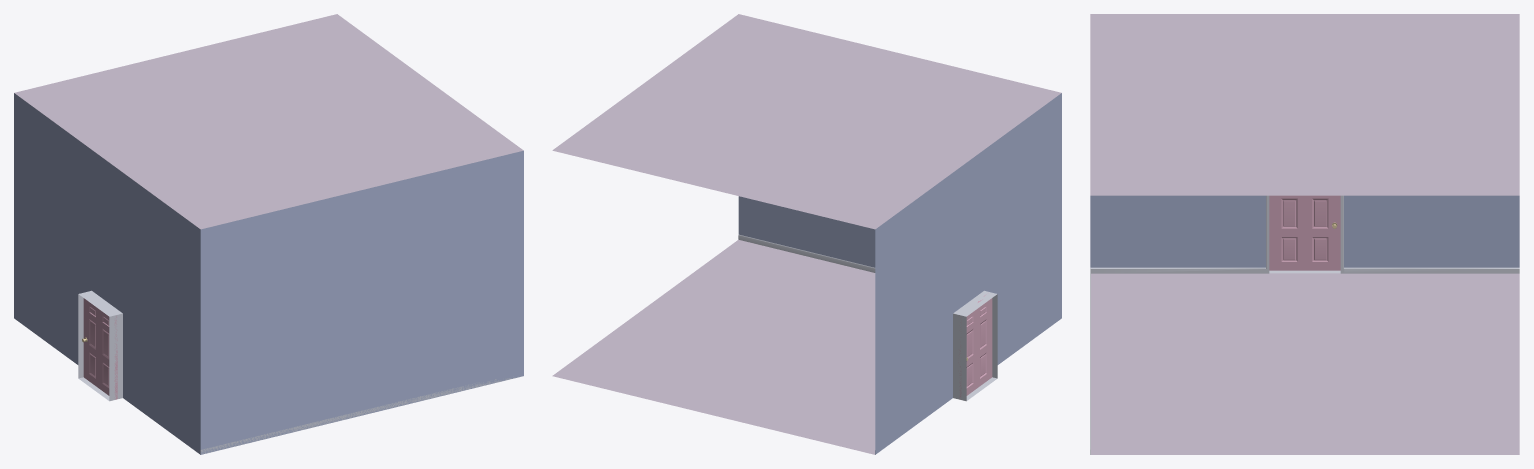
Rendered from doorsRoom.fbx.
The picture shows the model from 3 angles, left to right: view 1: azimuth 30°, elevation 25°; view 2: azimuth 150°, elevation 25°; view 3: azimuth 270°, elevation 25°; orthographic projection. The views are drawn at different scales.
Parts seen in each view (by area): view 1: polySurface4, pPlane12, polySurface1, polySurface6, pCube5, pCube11; view 2: pPlane12, pPlane1, polySurface1, polySurface4, pCube5, polySurface6, pCube11; view 3: pPlane12, pPlane1, polySurface1, polySurface6, pCube10.
Part boxes in pixels (x1=…): polySurface4: x1=200, y1=150, x2=523, y2=454; pPlane12: x1=14, y1=14, x2=523, y2=229; polySurface1: x1=14, y1=93, x2=200, y2=454; polySurface6: x1=83, y1=298, x2=117, y2=399; pCube5: x1=78, y1=290, x2=122, y2=401; pCube11: x1=200, y1=376, x2=520, y2=453; pPlane12: x1=552, y1=14, x2=1061, y2=229; pPlane1: x1=552, y1=239, x2=875, y2=454; polySurface1: x1=875, y1=93, x2=1061, y2=454; polySurface4: x1=738, y1=196, x2=875, y2=267; pCube5: x1=953, y1=290, x2=997, y2=401; polySurface6: x1=958, y1=294, x2=992, y2=397; pCube11: x1=738, y1=234, x2=875, y2=272; pPlane12: x1=1090, y1=14, x2=1519, y2=195; pPlane1: x1=1091, y1=273, x2=1519, y2=454; polySurface1: x1=1090, y1=195, x2=1519, y2=267; polySurface6: x1=1269, y1=195, x2=1340, y2=270; pCube10: x1=1090, y1=195, x2=1519, y2=273.
Size of the model in its own units: 25 by 16 by 24.
